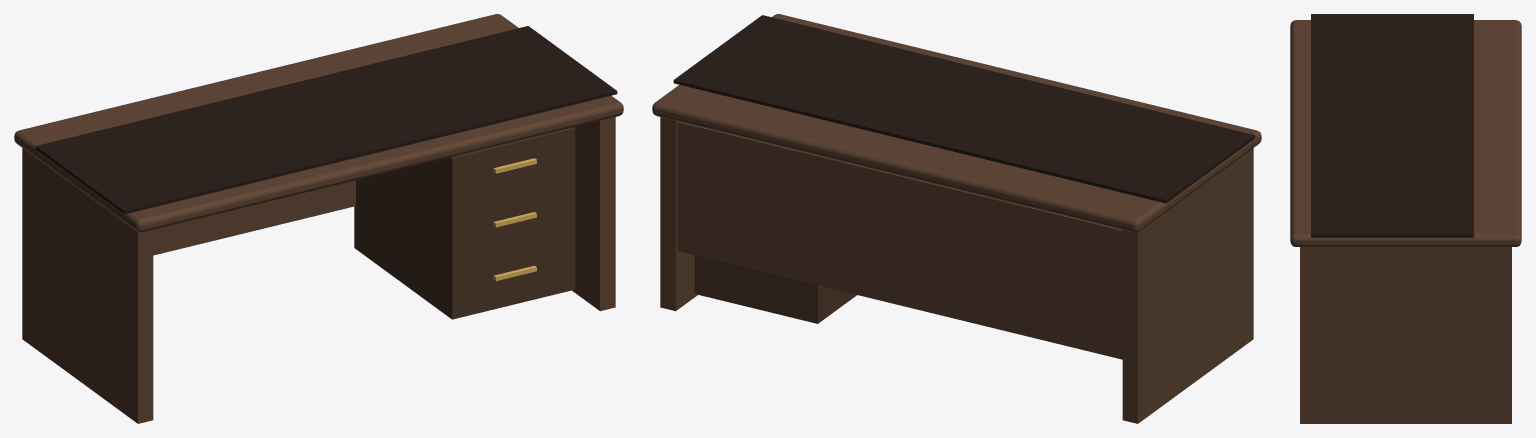
File: mesa-diretor.glb
3 renders of one model, left to right at view 1: azimuth 30°, elevation 25°; view 2: azimuth 150°, elevation 25°; view 3: azimuth 270°, elevation 25°, orthographic. The views are drawn at different scales.
Parts seen in each view (by area): view 1: mesa-diretor_malha; view 2: mesa-diretor_malha; view 3: mesa-diretor_malha.
Part boxes in pixels (left/top/right/bottom): mesa-diretor_malha: left=14, top=14, right=623, bottom=423; mesa-diretor_malha: left=652, top=14, right=1261, bottom=423; mesa-diretor_malha: left=1290, top=14, right=1521, bottom=423.
Bounding box in the file's own units: 1.92 × 0.783 × 0.85.
